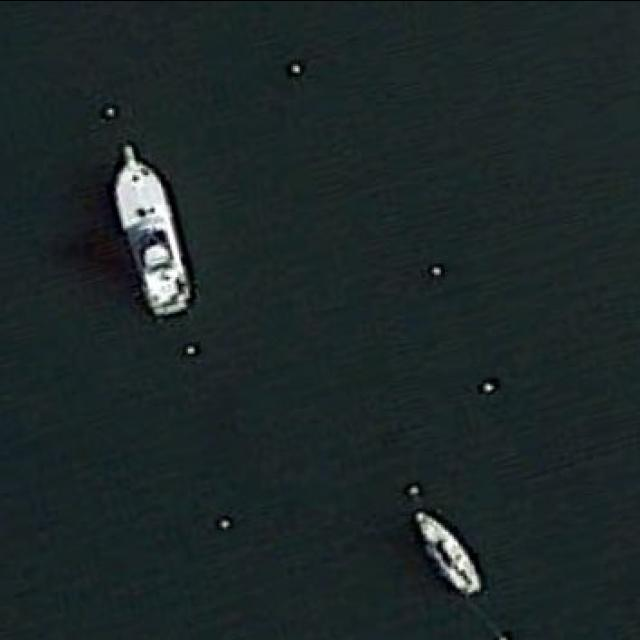ship: (112, 140, 195, 318), (408, 508, 482, 594)
